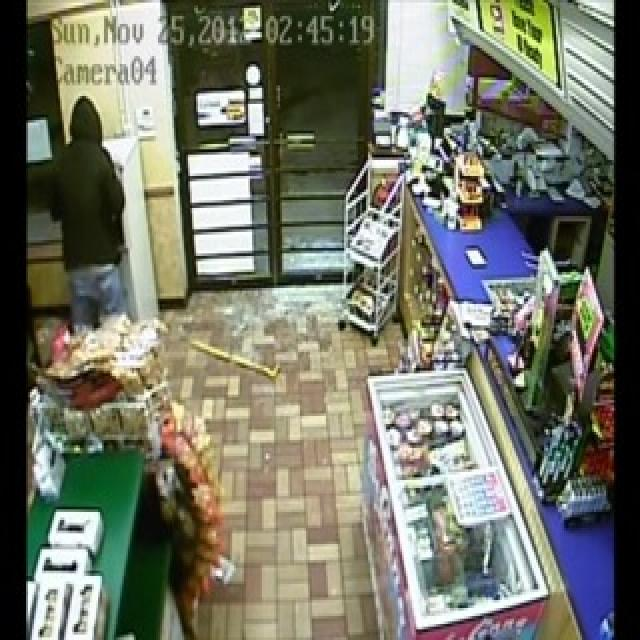thief: (48, 90, 138, 319)
